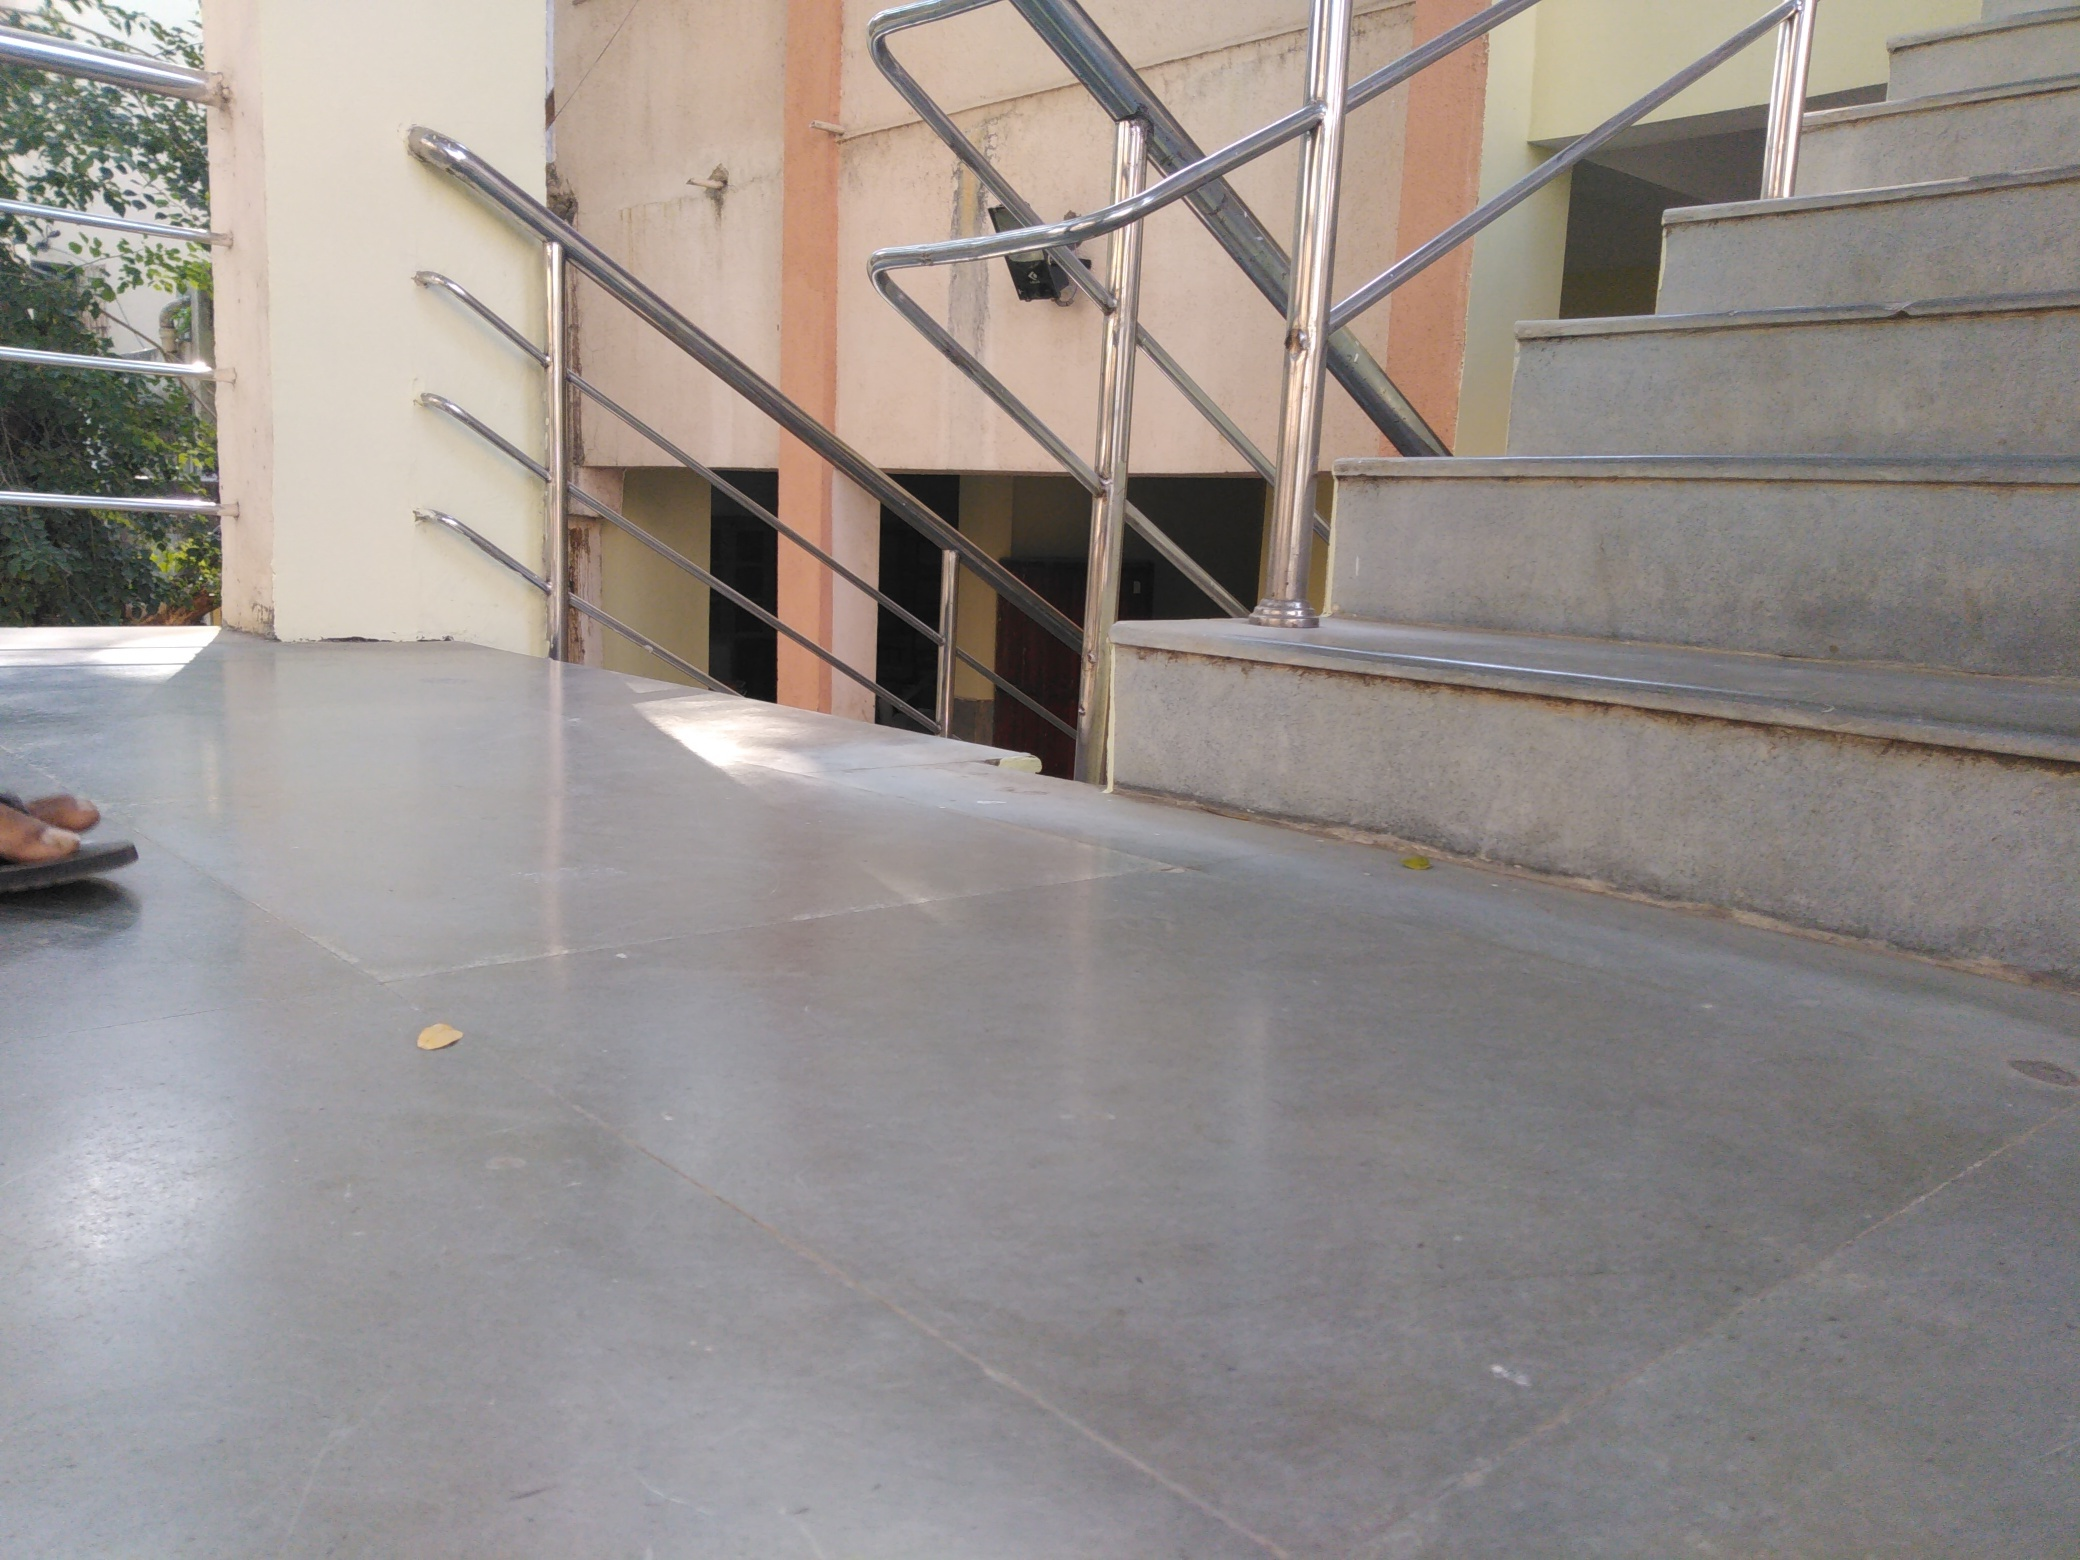stairs_up: (1096, 2, 2072, 960)
